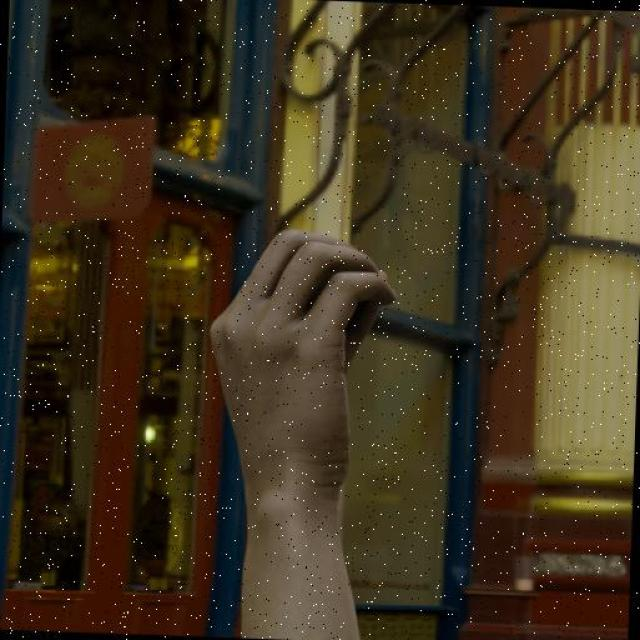O: (169, 208, 434, 520)
